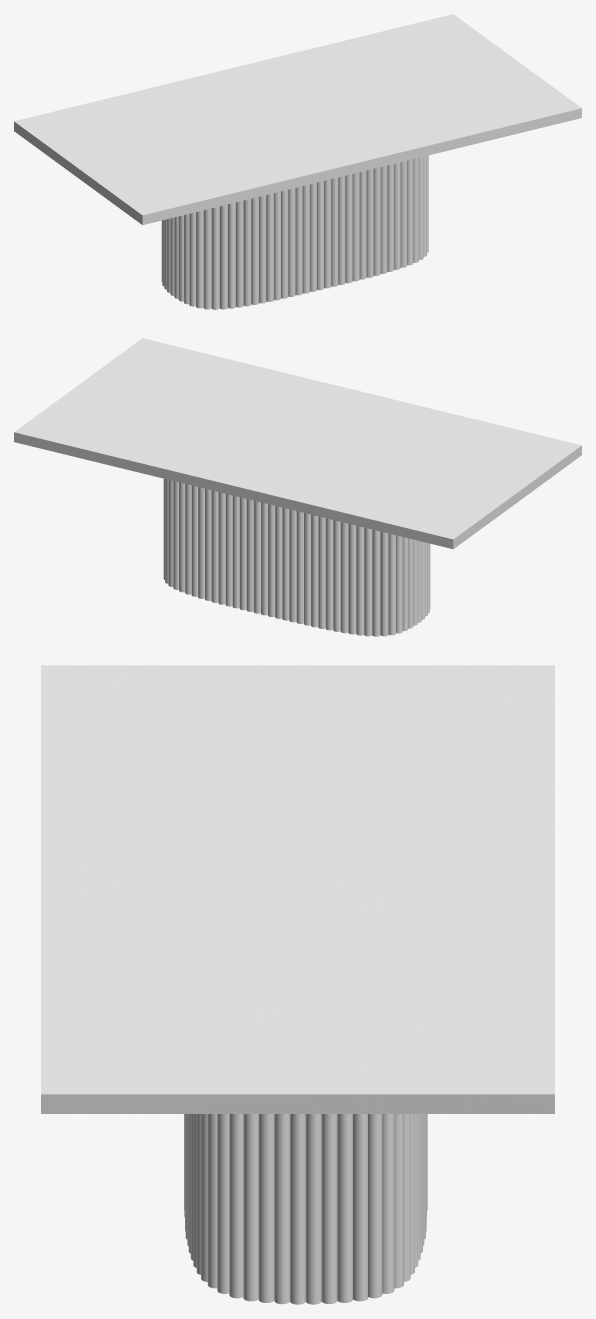
The model's file is purewhite_recta_standard_newtable.glb.
The picture shows the model from 3 angles, top to bottom: view 1: azimuth 30°, elevation 25°; view 2: azimuth 150°, elevation 25°; view 3: azimuth 270°, elevation 25°; orthographic projection. The views are drawn at different scales.
Parts seen in each view (by area): view 1: standard_recta, newtable; view 2: standard_recta, newtable; view 3: standard_recta, newtable.
Part boxes in pixels (x1=…): standard_recta: x1=14, y1=14, x2=581, y2=225; newtable: x1=161, y1=155, x2=428, y2=309; standard_recta: x1=14, y1=338, x2=581, y2=549; newtable: x1=163, y1=478, x2=430, y2=636; standard_recta: x1=41, y1=665, x2=554, y2=1113; newtable: x1=184, y1=1114, x2=427, y2=1304.
Bounding box in the file's own units: 7.5 × 2.5 × 3.8.
Materials: 2 (2 with a texture image).
